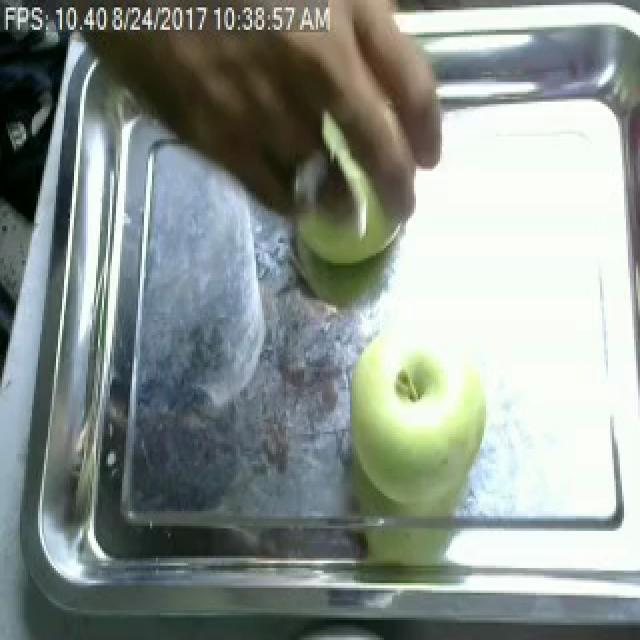50-_ripeness: (329, 307, 537, 509)
